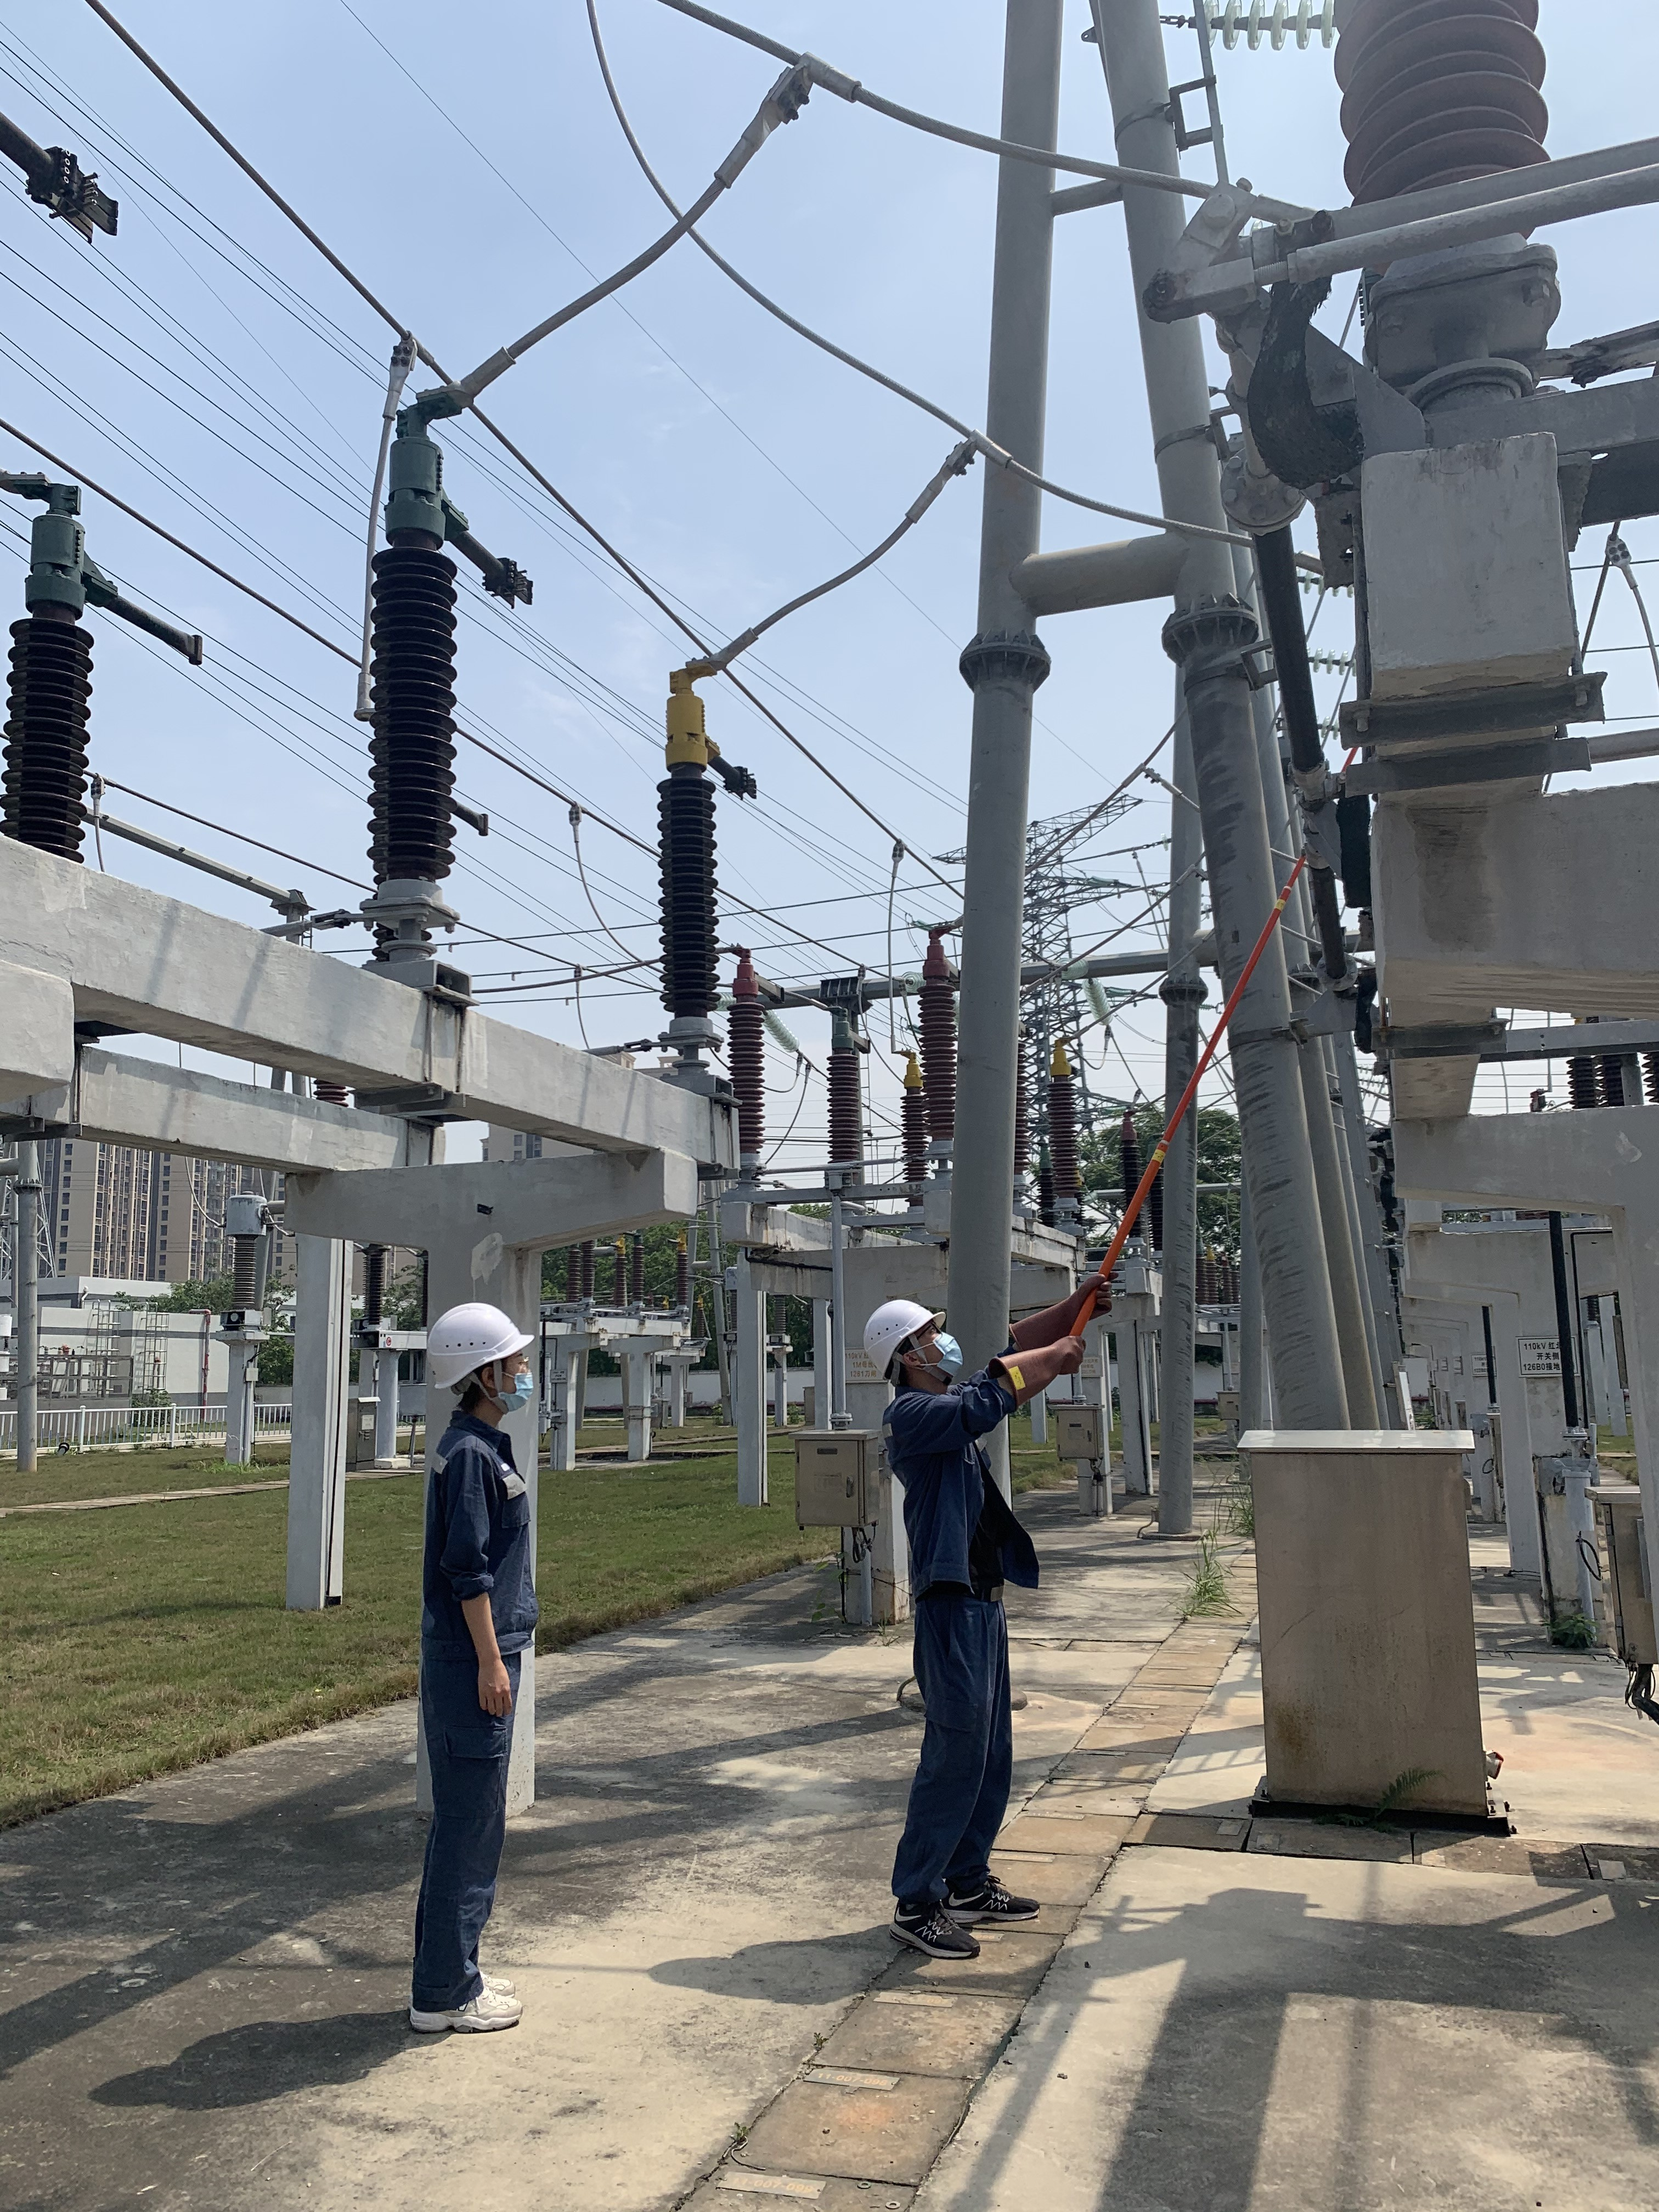downsuit: (896, 1625, 1019, 1909), (418, 1658, 512, 2001)
upsuit: (890, 1381, 1035, 1611), (432, 1440, 523, 1642)
wrongsuit: (962, 1440, 1032, 1587)
wrongtop: (458, 1573, 511, 1700)
